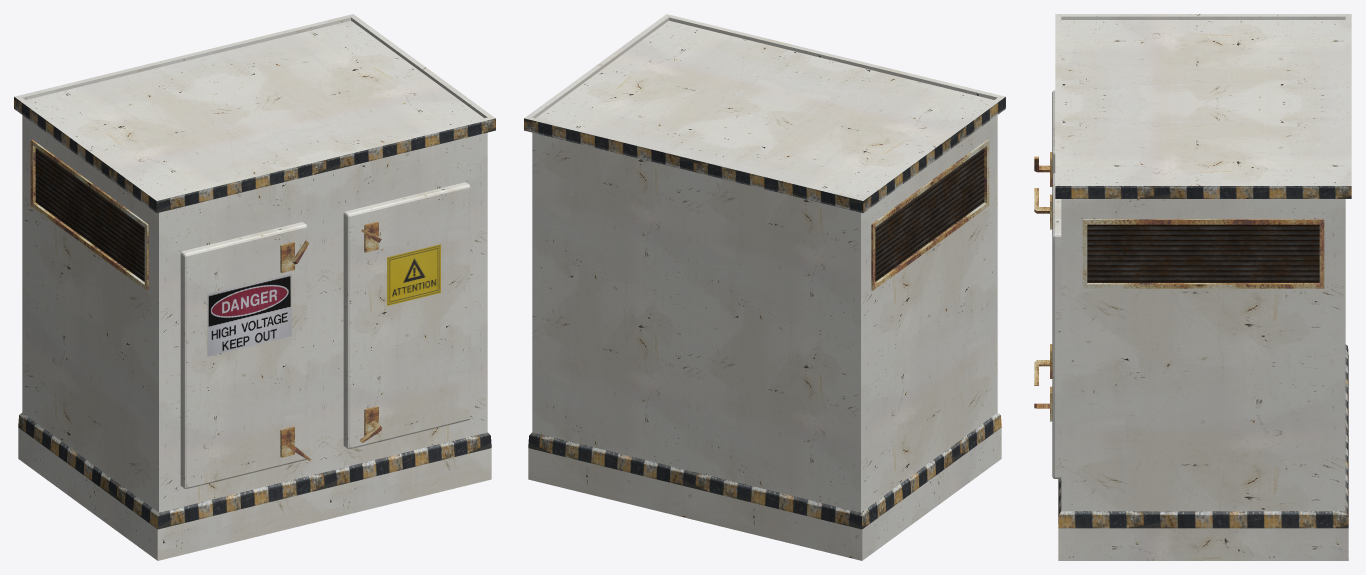
The model's file is energiebox.DAE.
3 renders of one model, left to right at view 1: azimuth 30°, elevation 25°; view 2: azimuth 150°, elevation 25°; view 3: azimuth 270°, elevation 25°, orthographic. The views are drawn at different scales.
Parts seen in each view (by area): view 1: Mesh_Object; view 2: Mesh_Object; view 3: Mesh_Object.
Part boxes in pixels (x1=…): Mesh_Object: x1=14, y1=14, x2=495, y2=560; Mesh_Object: x1=524, y1=14, x2=1005, y2=560; Mesh_Object: x1=1034, y1=14, x2=1351, y2=560.
Size of the model in its own units: 2.34 by 2.39 by 1.83.
